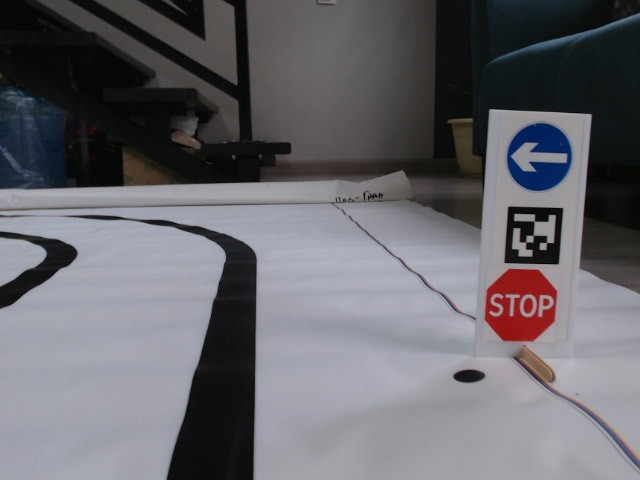Stop: (479, 268, 562, 340)
